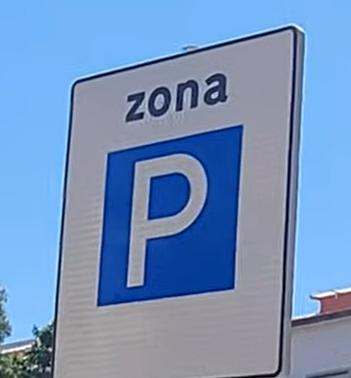zona de estacionamento autorizado: (54, 27, 300, 378)
